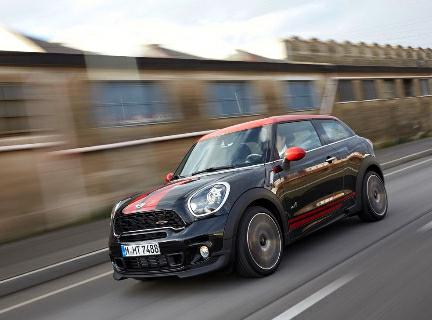MINI-JCWPACEMAN: (111, 114, 389, 281)
